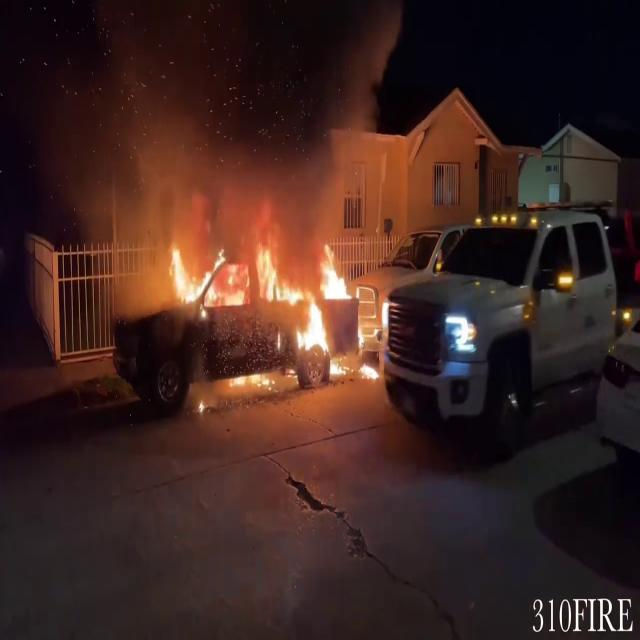Fire: (158, 204, 384, 380)
Smoke: (65, 0, 409, 218)
